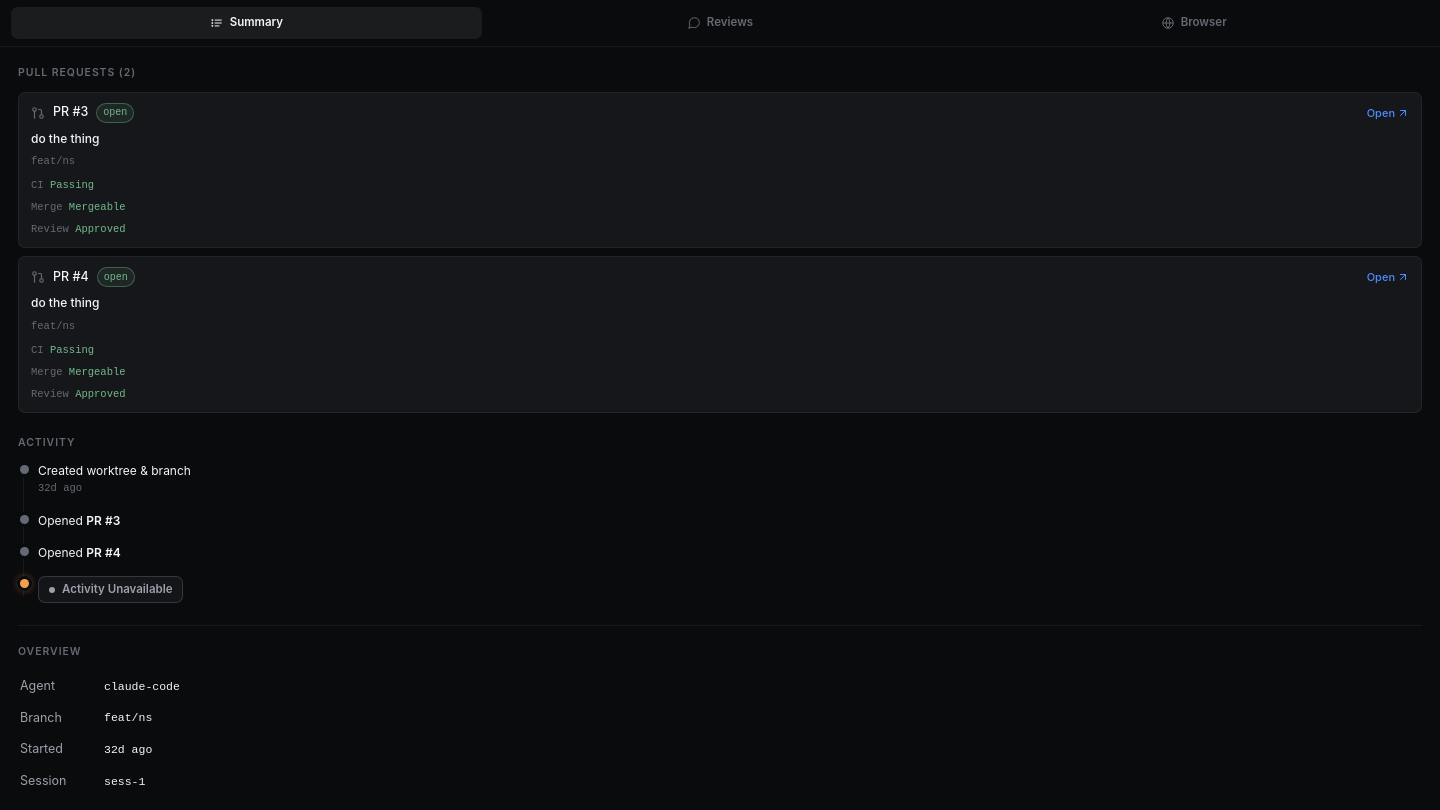
Test: SessionInspector reviews tab › shows eligible and up-to-date PR review rows
This screenshot has width=1440, height=810.
Step 1. Click the tab "Reviews" → (720, 23), box [485, 7, 955, 39]
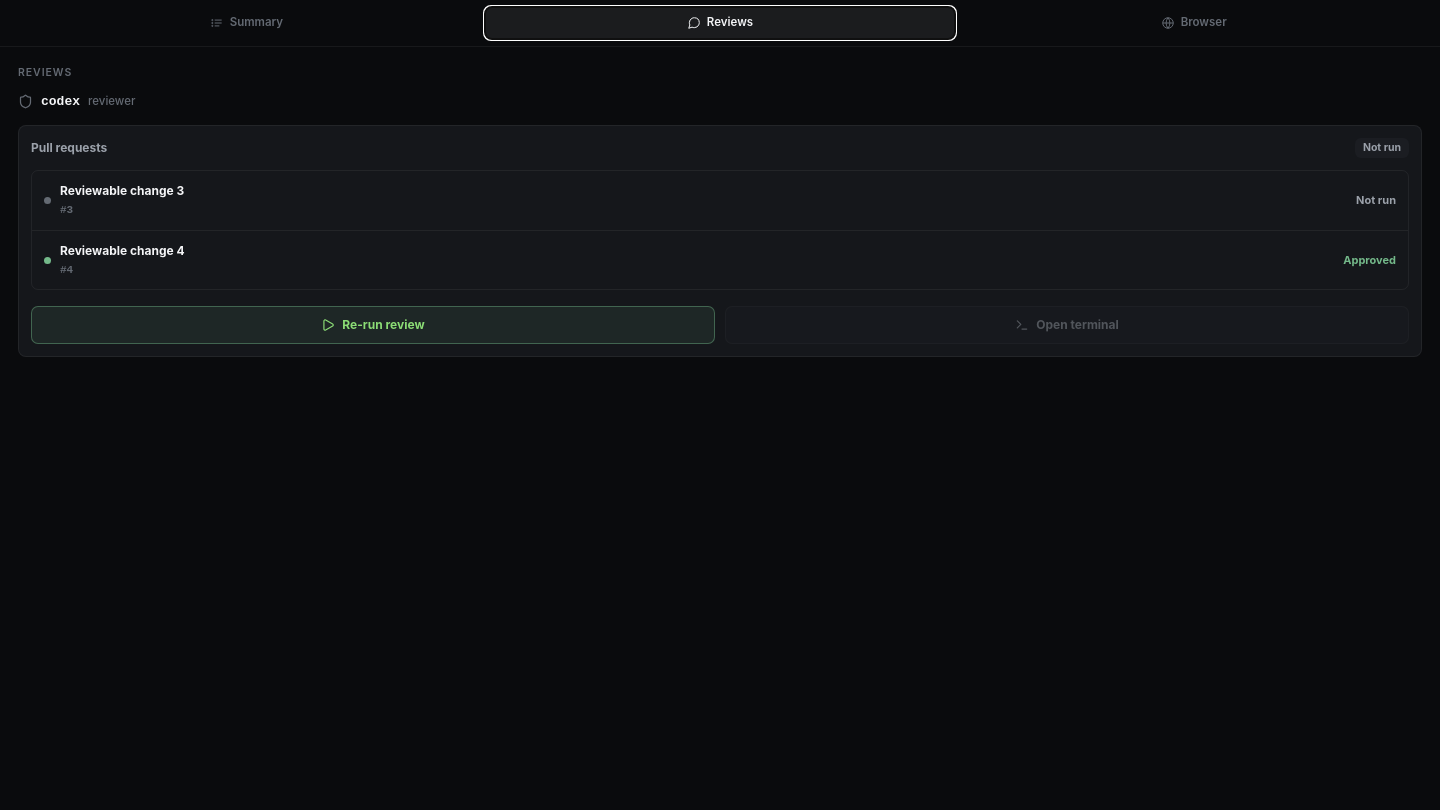
Result: the link "Reviewable change 3" is shown at [60, 182, 184, 200]
Result: the text "#3" below "Reviewable change 3" is shown at [60, 202, 73, 219]
Result: the link "Reviewable change 4" is shown at [60, 242, 185, 260]
